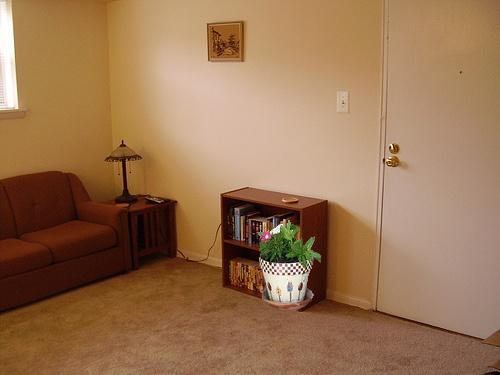tampered: (259, 221, 321, 310)
